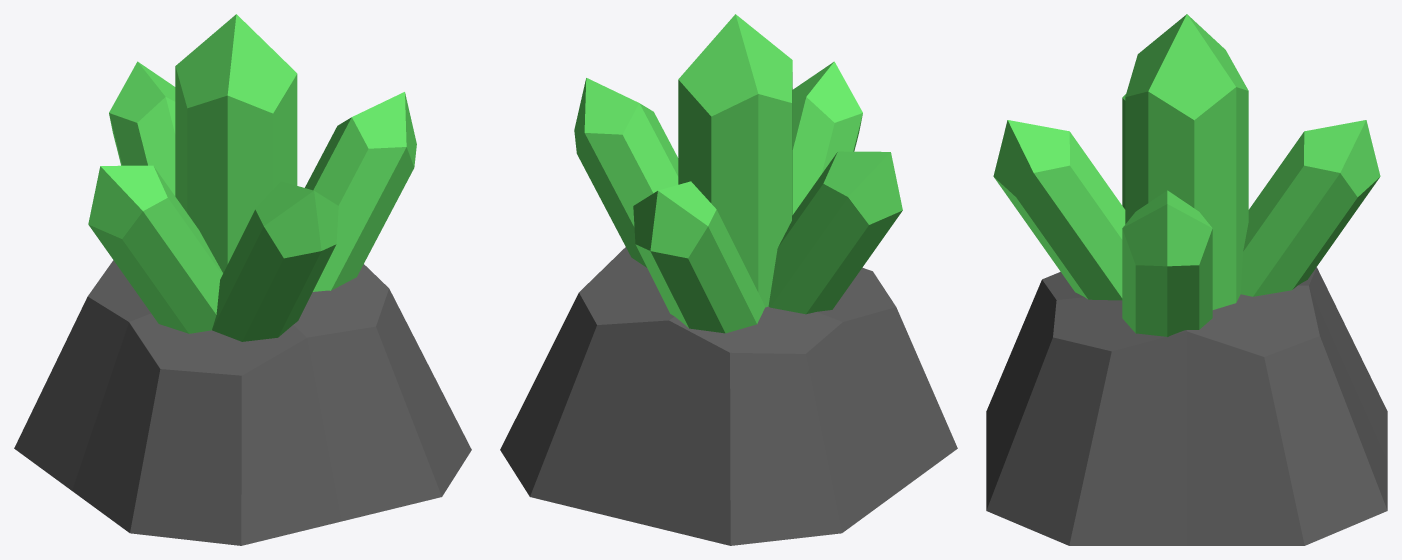
File: Target03.fbx
The picture shows the model from 3 angles, left to right: view 1: azimuth 30°, elevation 25°; view 2: azimuth 150°, elevation 25°; view 3: azimuth 270°, elevation 25°; orthographic projection.
Parts seen in each view (by area): view 1: Cube.001; view 2: Cube.001; view 3: Cube.001.
Boxes of the visible parts, left/top/right/bottom form: Cube.001: left=14, top=14, right=471, bottom=545; Cube.001: left=500, top=14, right=957, bottom=545; Cube.001: left=986, top=14, right=1387, bottom=545.
Bounding box in the file's own units: 704 × 863 × 704.
